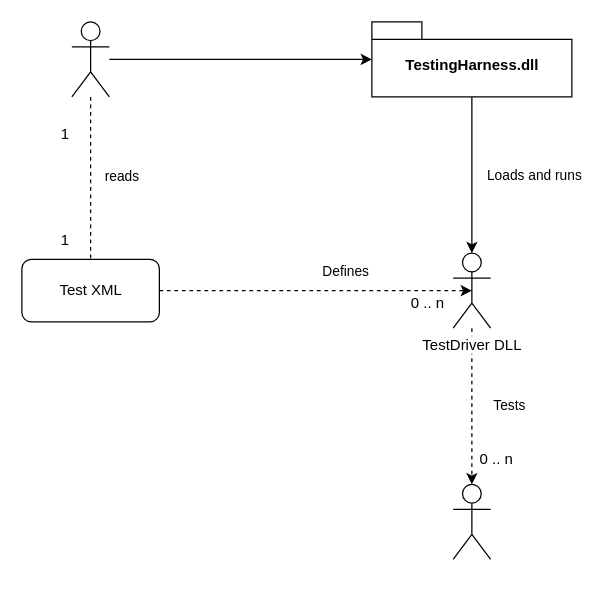
This 604x608 diagram has some shape labels left out. The centre of each missing label's shape, as x and y in pixels:
"TestedCode DLL" goes at [471,521].
"TestExecutor" goes at [90,59].
